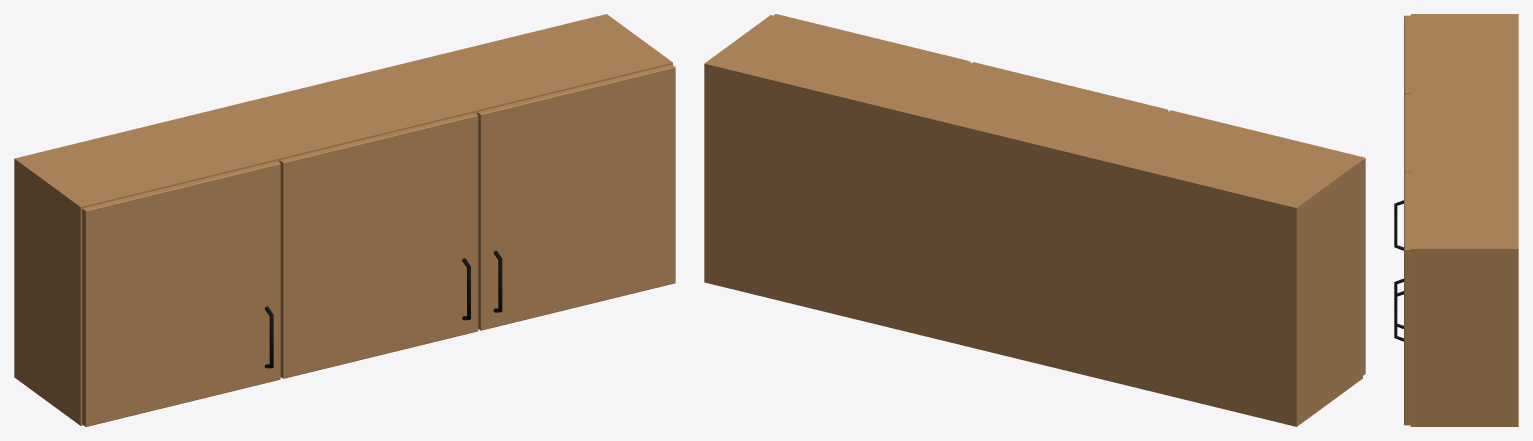
The model's file is aereo.glb.
3 views of the same model, side by side, from view 1: azimuth 30°, elevation 25°; view 2: azimuth 150°, elevation 25°; view 3: azimuth 270°, elevation 25° (orthographic). The views are drawn at different scales.
Parts seen in each view (by area): view 1: aereo_caixa, aereo_porta0, aereo_porta1, aereo_porta2; view 2: aereo_caixa, aereo_porta0, aereo_porta1; view 3: aereo_caixa, aereo_porta2, aereo_porta0, aereo_porta1, aereo_puxador2, aereo_puxador0.
Boxes of the visible parts, x1,y1,x2,y2 form: aereo_caixa: [14, 14, 672, 425]; aereo_porta0: [82, 161, 280, 426]; aereo_porta1: [279, 112, 478, 378]; aereo_porta2: [477, 64, 675, 330]; aereo_caixa: [704, 15, 1362, 426]; aereo_porta0: [1169, 110, 1365, 375]; aereo_porta1: [971, 62, 1168, 111]; aereo_caixa: [1410, 14, 1518, 426]; aereo_porta2: [1404, 172, 1410, 425]; aereo_porta0: [1404, 15, 1410, 94]; aereo_porta1: [1404, 94, 1410, 172]; aereo_puxador2: [1394, 291, 1403, 341]; aereo_puxador0: [1394, 200, 1403, 250].
Size of the model in its own units: 1.7 by 0.6 by 0.3796.
